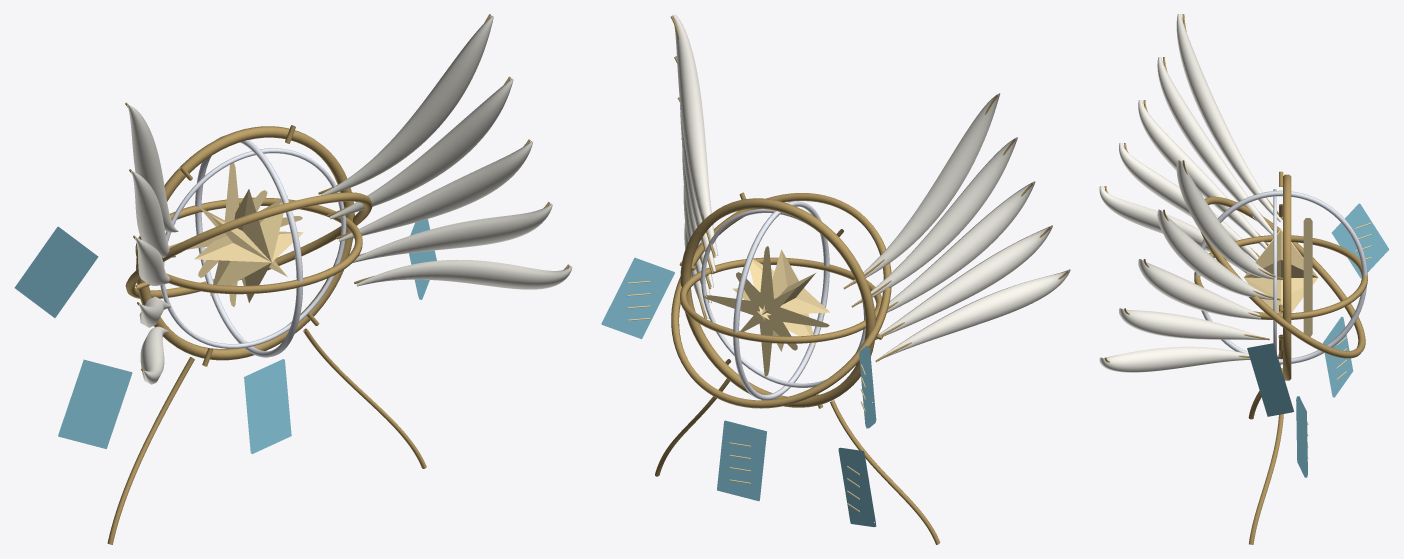
File: luminous_hymn.obj
3 renders of one model, left to right at view 1: azimuth 30°, elevation 25°; view 2: azimuth 150°, elevation 25°; view 3: azimuth 270°, elevation 25°, orthographic. The views are drawn at different scales.
Visible parts, largest first — view 1: luminous_hymn; view 2: luminous_hymn; view 3: luminous_hymn.
Part boxes in pixels (left/top/right/bottom): luminous_hymn: left=14, top=14, right=572, bottom=544; luminous_hymn: left=601, top=14, right=1070, bottom=544; luminous_hymn: left=1099, top=14, right=1389, bottom=544.
Size of the model in its own units: 0.6994 by 0.7453 by 0.4961.
